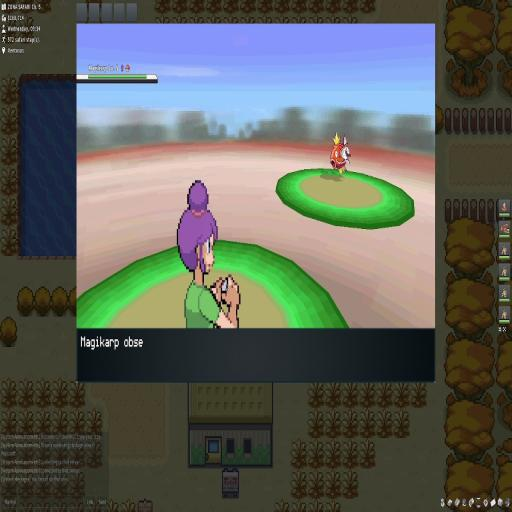MAGIKARP: (327, 132, 351, 179)
